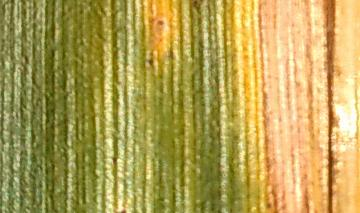tarspot: (192, 1, 202, 11), (147, 58, 154, 67)
